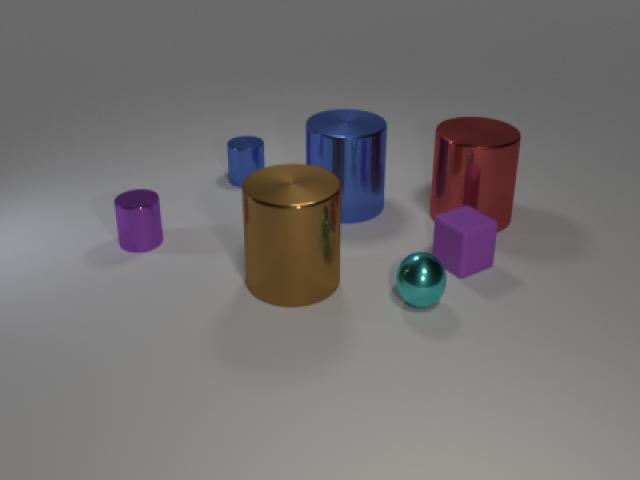cylinder: (238, 159, 348, 311), (425, 108, 524, 235), (299, 101, 391, 228), (109, 181, 168, 255), (222, 130, 269, 190)
round ball: (388, 246, 452, 316)
